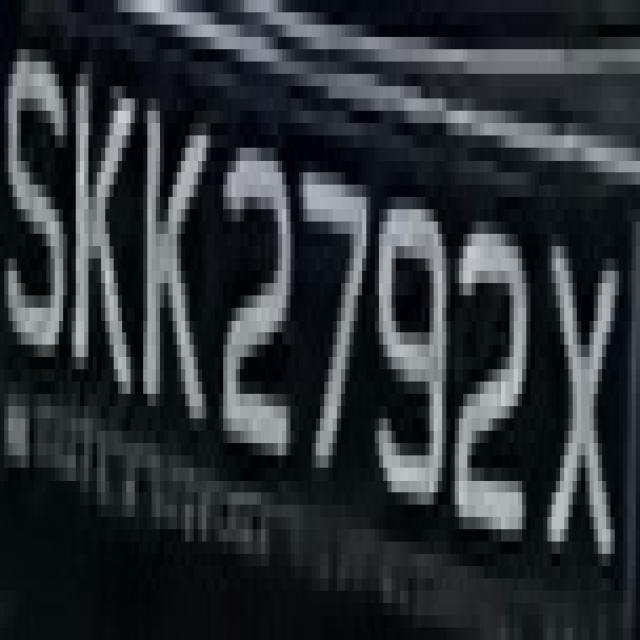2: (442, 160, 526, 591), (206, 135, 303, 443)
7: (290, 110, 374, 504)
9: (370, 135, 454, 517)
K: (63, 37, 135, 431), (139, 86, 206, 431)
S: (4, 37, 72, 381)
X: (530, 221, 640, 590)
